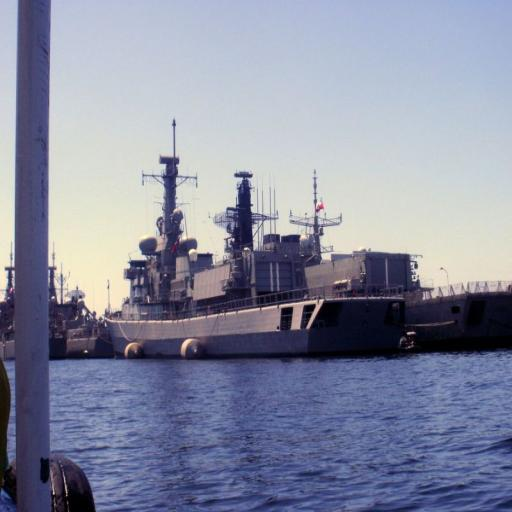Fragata: (94, 115, 415, 365)
